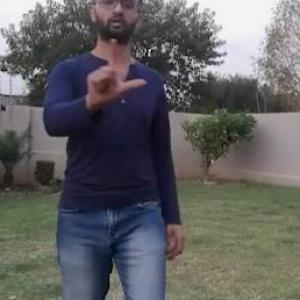land_hand: (79, 34, 147, 106)
